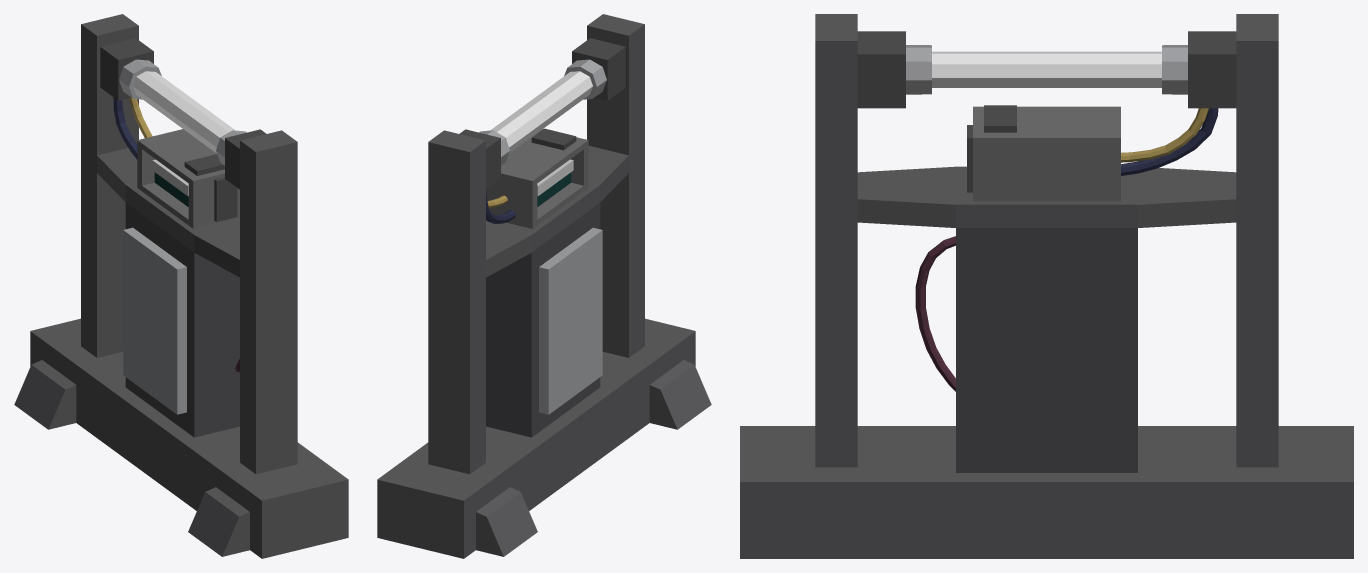
File: obj_generator_fbx.fbx
3 renders of one model, left to right at view 1: azimuth 30°, elevation 25°; view 2: azimuth 150°, elevation 25°; view 3: azimuth 270°, elevation 25°, orthographic. The views are drawn at different scales.
Parts seen in each view (by area): view 1: pasted__pCube12; view 2: pasted__pCube12; view 3: pasted__pCube12.
Part boxes in pixels (x1,y1,x2,y2): pasted__pCube12: [14, 14, 348, 558]; pasted__pCube12: [377, 14, 711, 558]; pasted__pCube12: [740, 14, 1353, 558].
Bounding box in the file's own units: 39.4 × 125 × 138.
